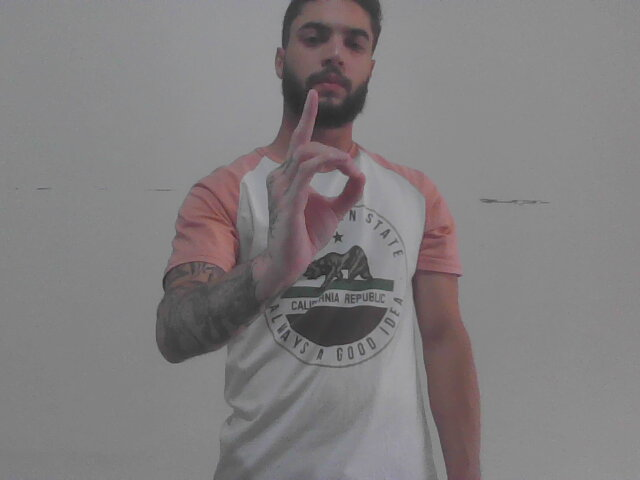d: (259, 84, 369, 280)
